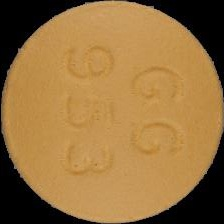54868-1082: (0, 0, 224, 224)
